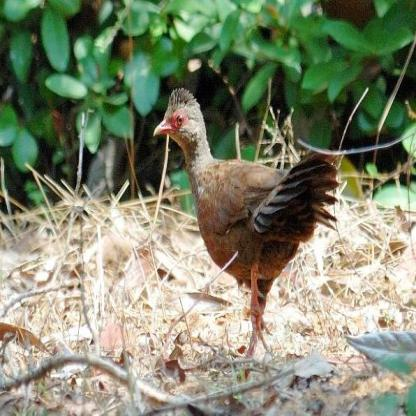Burung: (152, 87, 337, 371)
